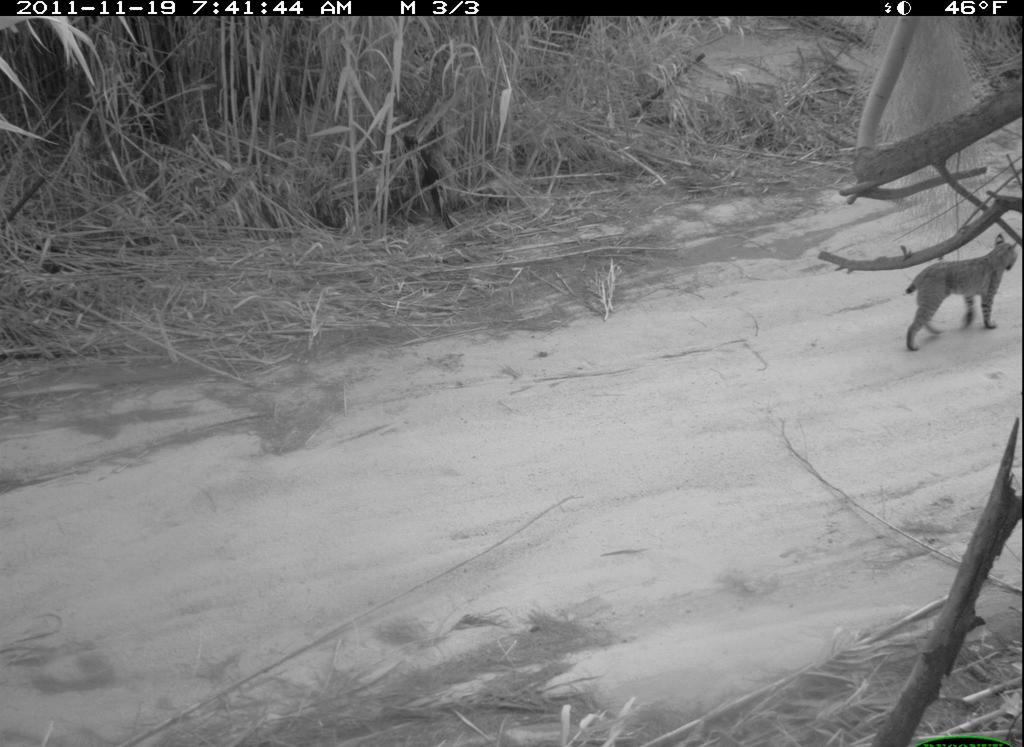bobcat: (888, 228, 1021, 324)
